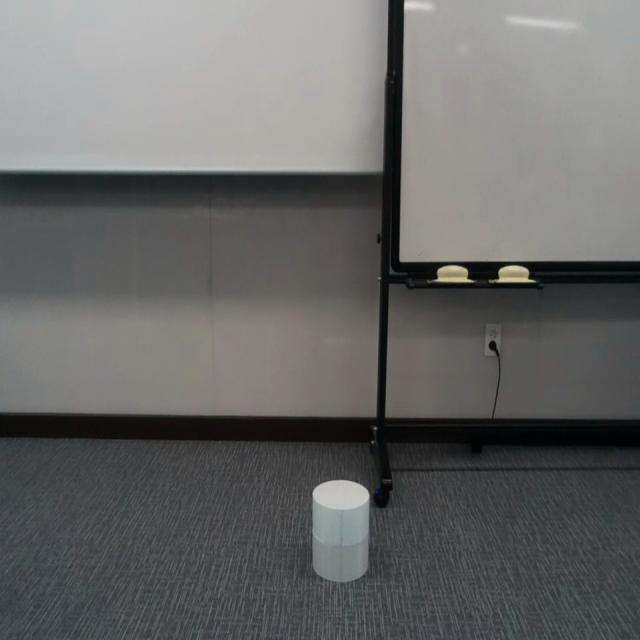cylinder: (311, 479, 370, 582)
